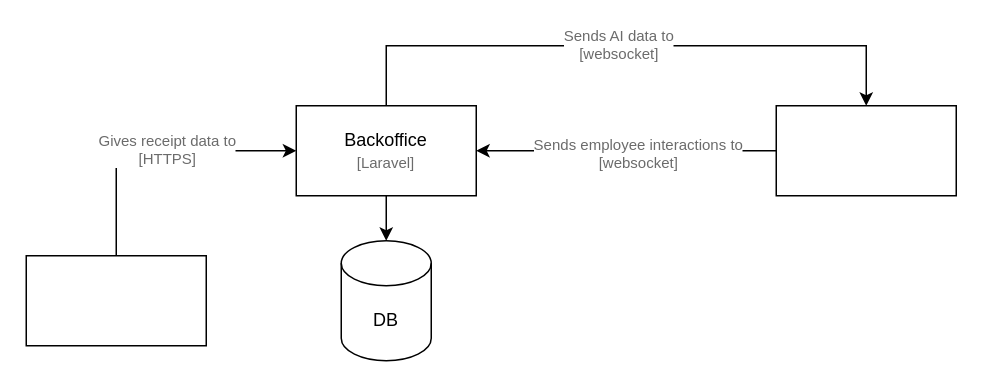
This 983x387 diagram has some shape labels left out. Here are the shapes that lost their labels. From the top down, the centre of each, then its label:
At (x=865, y=150): "Dashboard [React]".
At (x=115, y=300): "Scanner [Python]".
